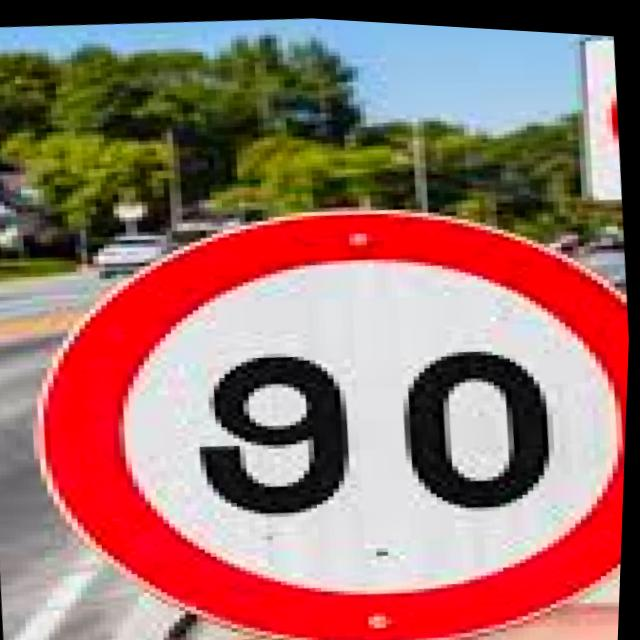Speed Limit -90-: (0, 158, 635, 640)
